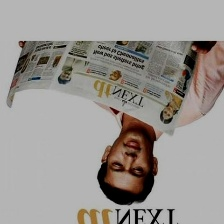news_paper: (2, 39, 205, 140)
